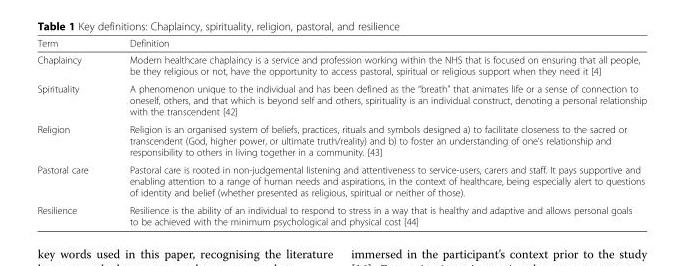table: (36, 37, 646, 226)
table column: (108, 37, 646, 226), (36, 37, 108, 226)
table column header: (36, 37, 646, 51)
table row: (36, 79, 646, 120), (36, 120, 646, 160), (36, 160, 646, 200), (36, 51, 646, 79), (36, 200, 646, 226), (36, 37, 646, 51)
